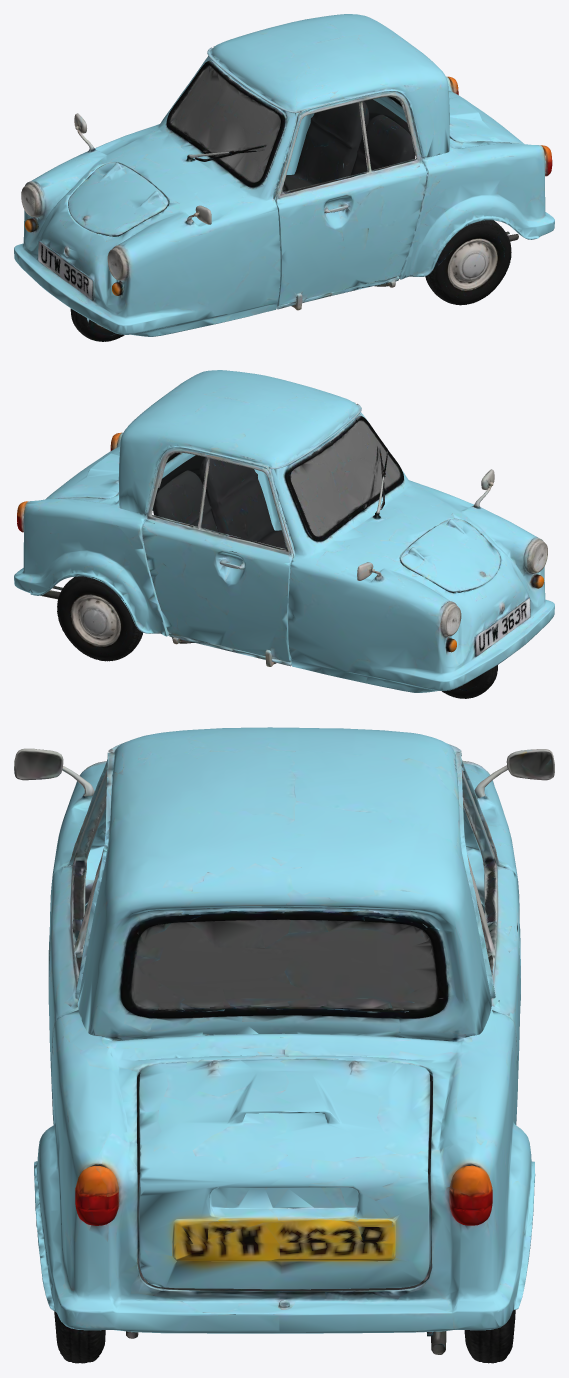
Rendered from mobility-car-SHRINK.glb.
3 renders of one model, top to bottom at view 1: azimuth 30°, elevation 25°; view 2: azimuth 150°, elevation 25°; view 3: azimuth 270°, elevation 25°, orthographic. The views are drawn at different scales.
Parts seen in each view (by area): view 1: object 1, Wheel_RL, Wheel_F; view 2: object 1, Wheel_RR, Wheel_F; view 3: object 1, Wheel_RR, Wheel_RL.
Part boxes in pixels (left/top/right/bottom): object 1: left=14, top=14, right=554, bottom=336; Wheel_RL: left=425, top=220, right=511, bottom=305; Wheel_F: left=70, top=308, right=124, bottom=341; object 1: left=14, top=370, right=554, bottom=692; Wheel_RR: left=57, top=576, right=142, bottom=661; Wheel_F: left=442, top=665, right=497, bottom=698; object 1: left=14, top=727, right=554, bottom=1354; Wheel_RR: left=464, top=1310, right=515, bottom=1363; Wheel_RL: left=54, top=1311, right=105, bottom=1363.
Size of the model in its own units: 1.9 by 0.9909 by 0.9973.
1 material, 1 textured.
